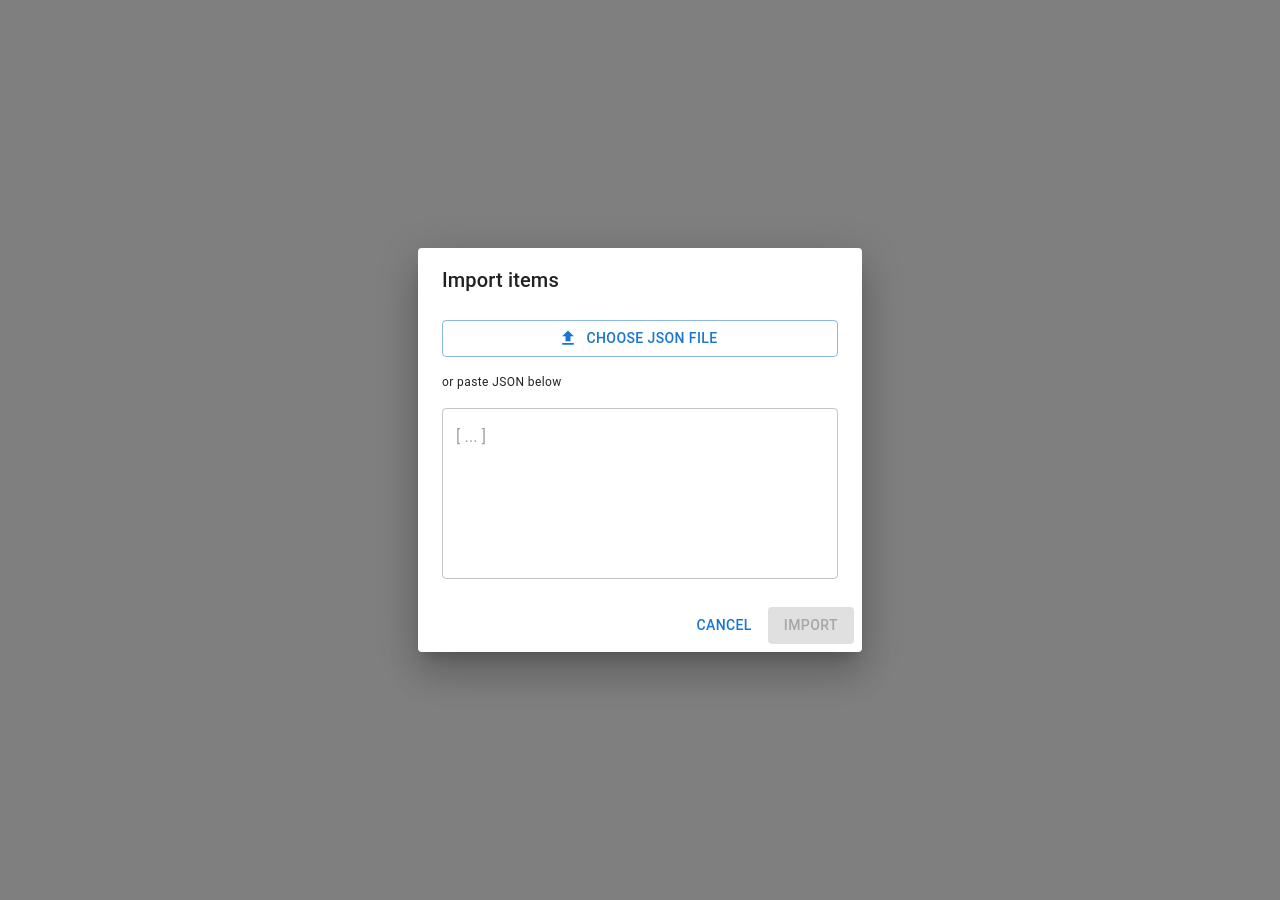
Test: ImportDialog › enables the Import button once the paste field has non-whitespace content
This screenshot has width=1280, height=900.
Type "[]" into the text box with placeholder "[ ... ]" at (640, 494), box x1=456 y1=425 x2=824 y2=563
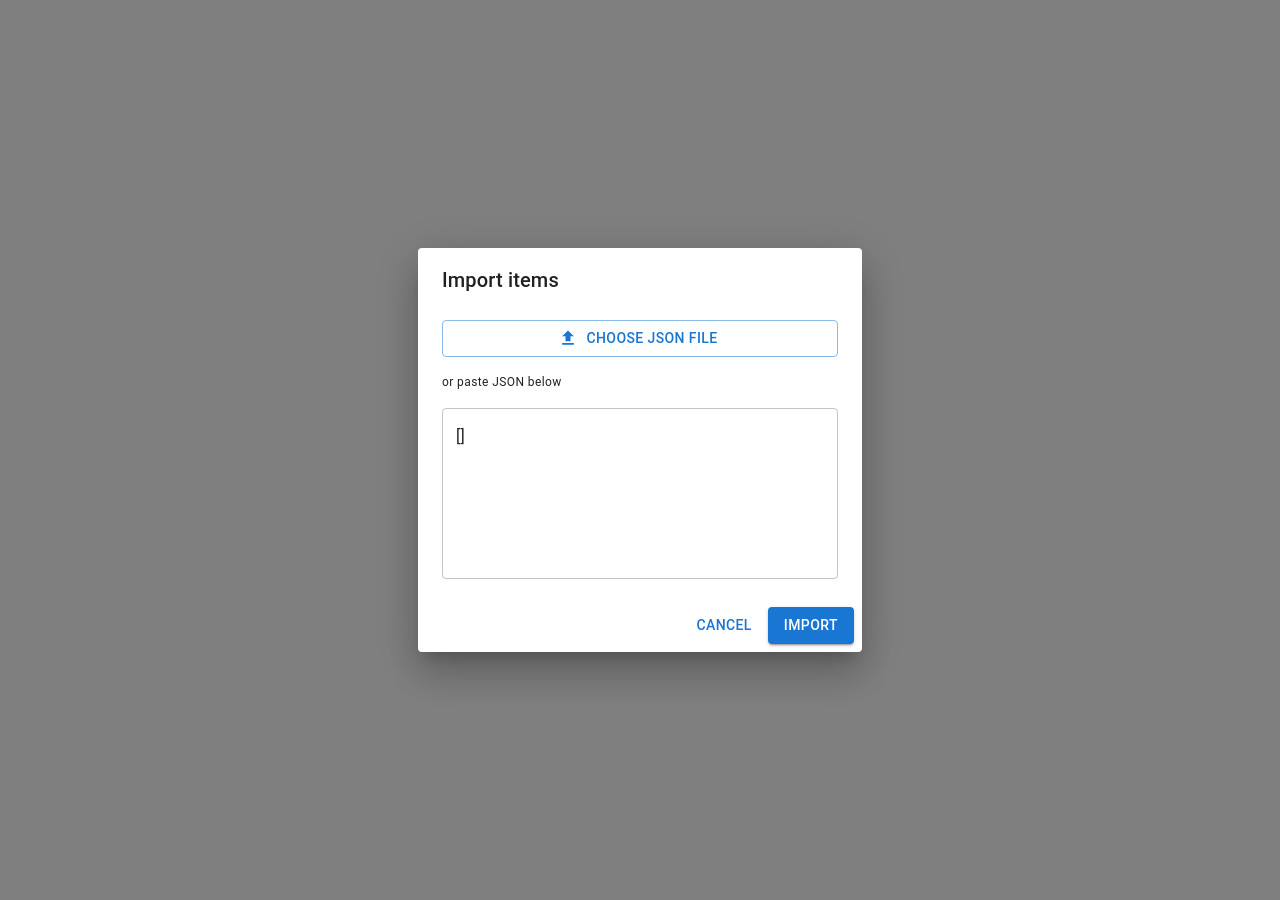
Expected: the button "Import" is enabled, x1=768 y1=608 x2=854 y2=644
